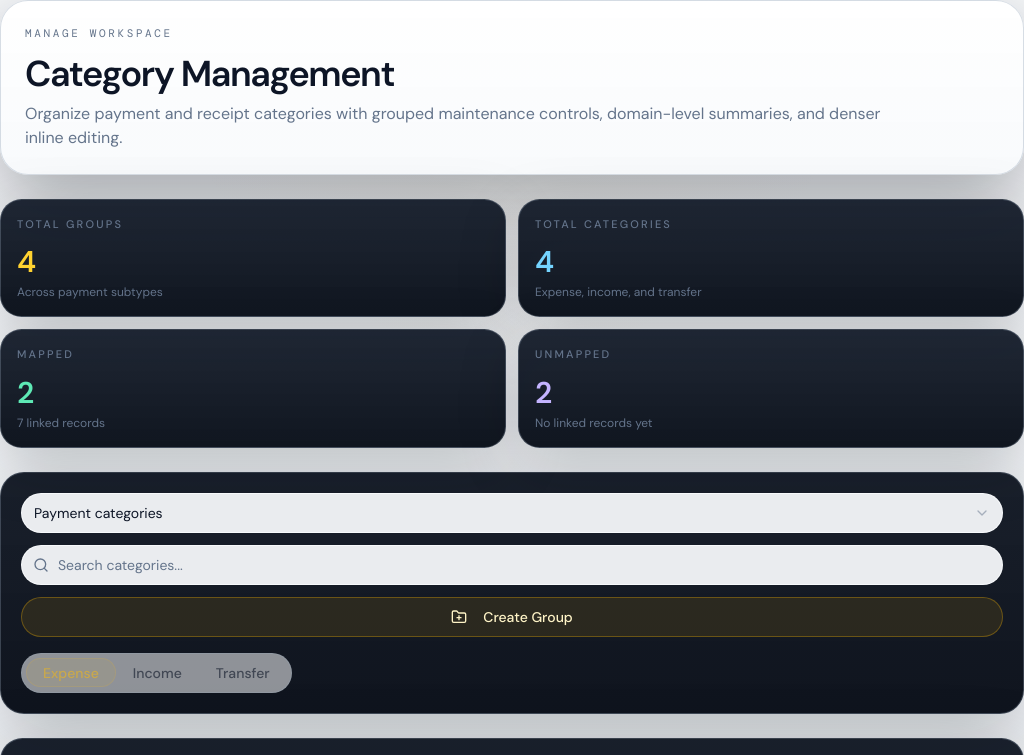
Scenario: CategoriesPage › prefills the create group dialog with the active payment tab subtype
Click the tab "Transfer" at (243, 672), box left=199, top=658, right=287, bottom=687
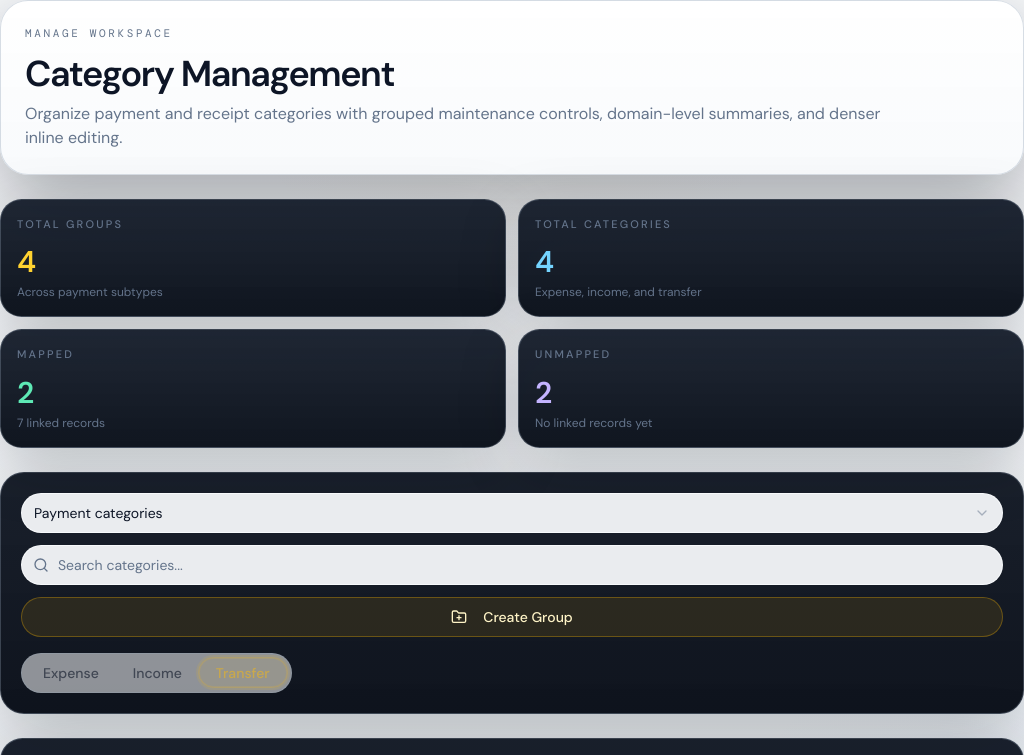
Click the button "Create Group" at (512, 616), box left=21, top=596, right=1003, bottom=636
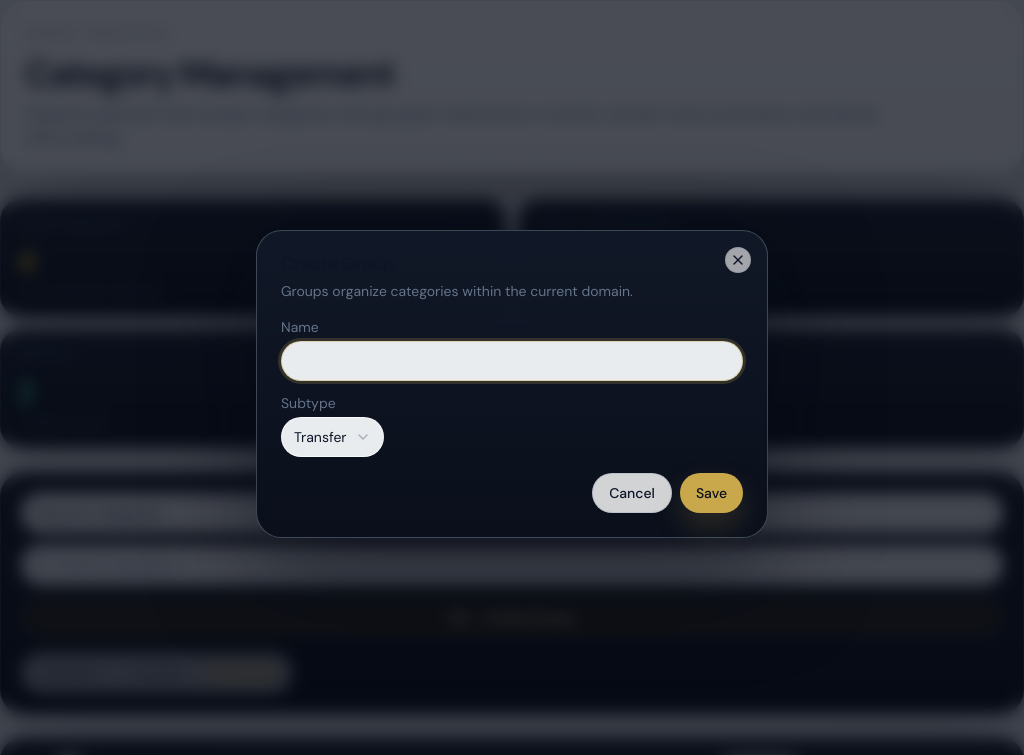
Now the dropdown reads "Transfer", box left=281, top=417, right=384, bottom=457
